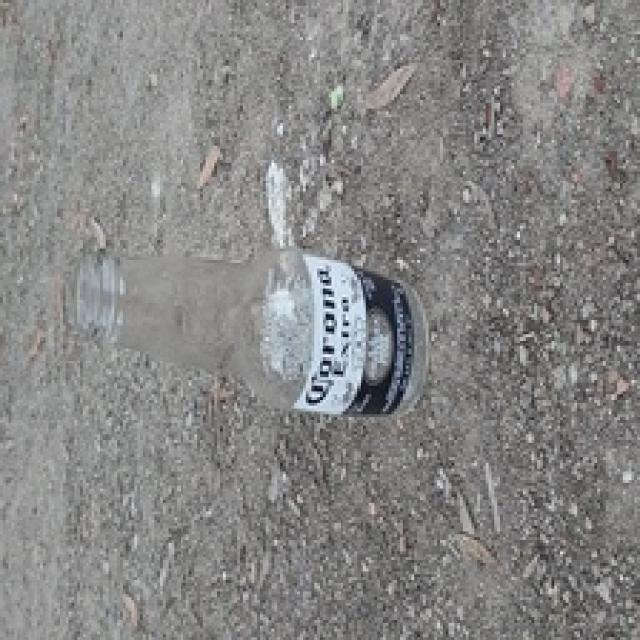Glass: (59, 245, 428, 420)
